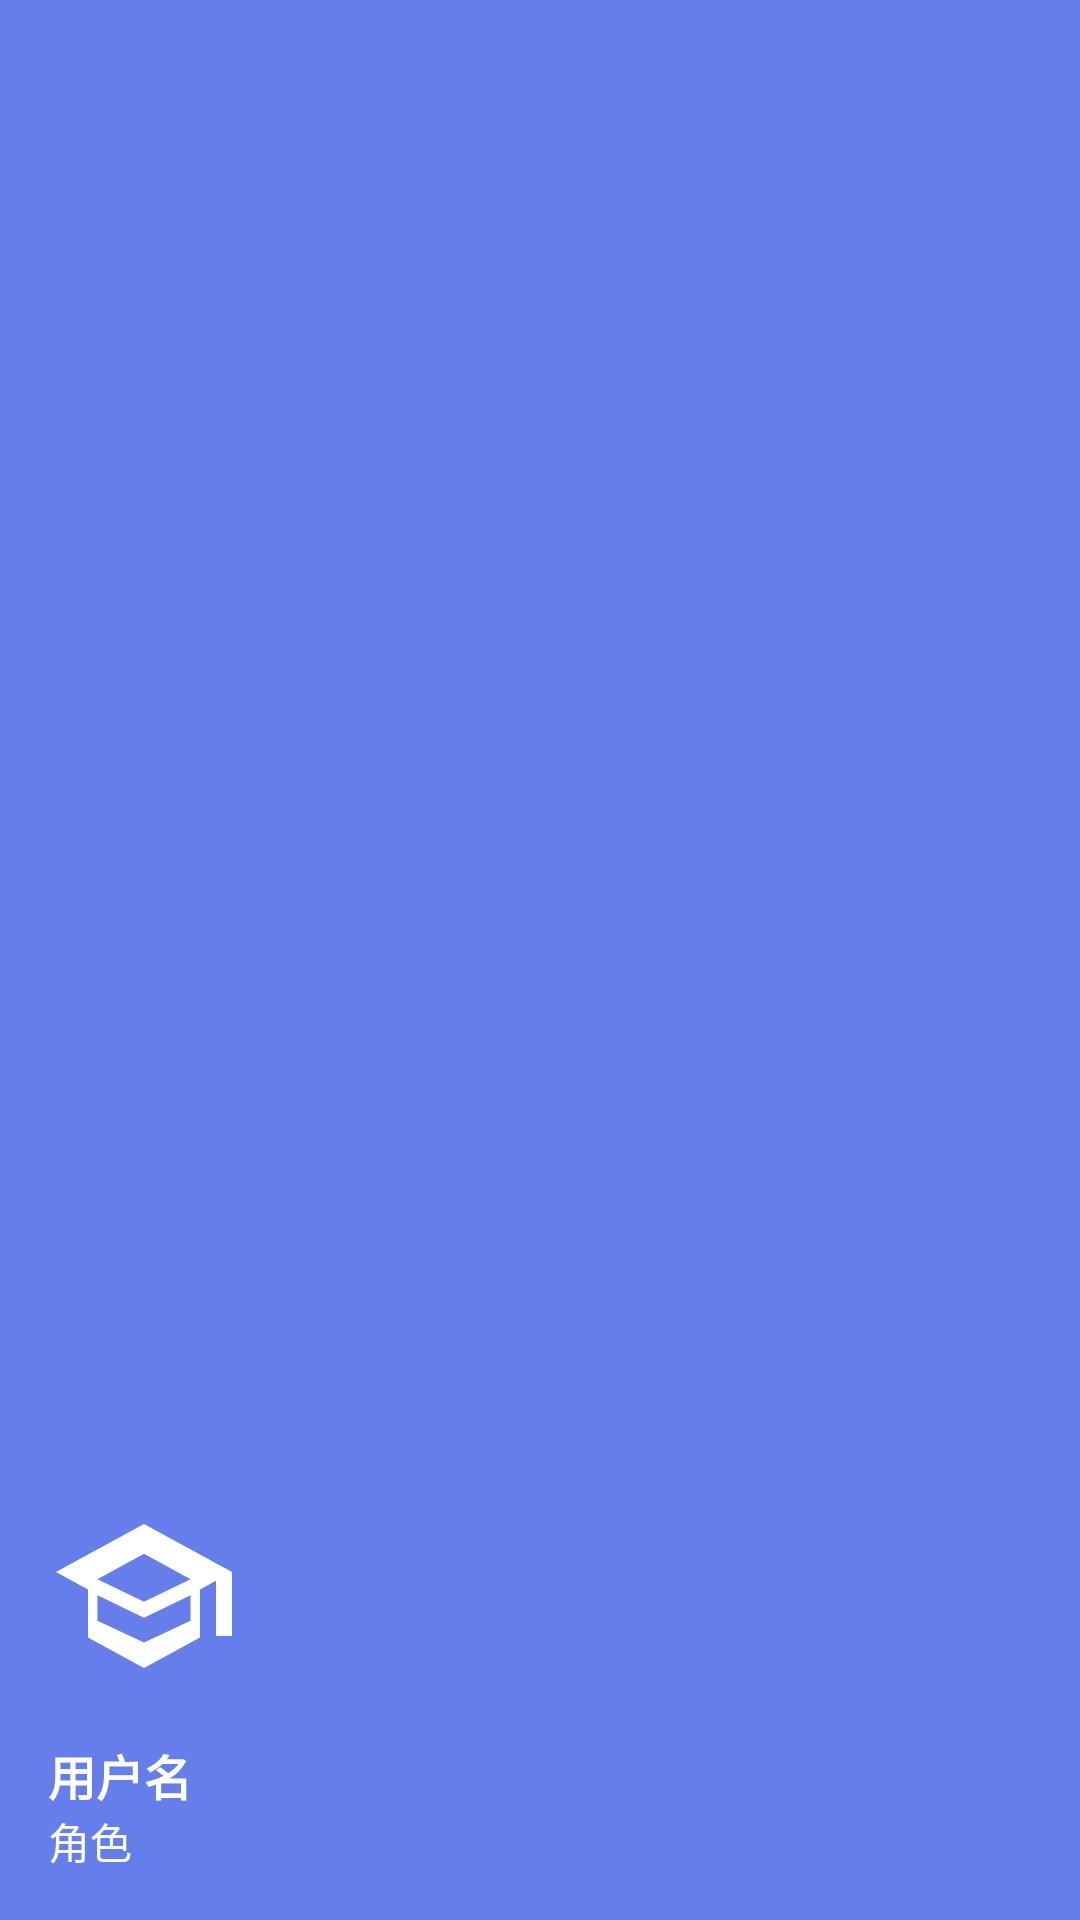

Locate icon controls on the screen. Image size 1080 × 1920, boxes as [x1,y1,x2,y2].
school: [56,1524,232,1668]
